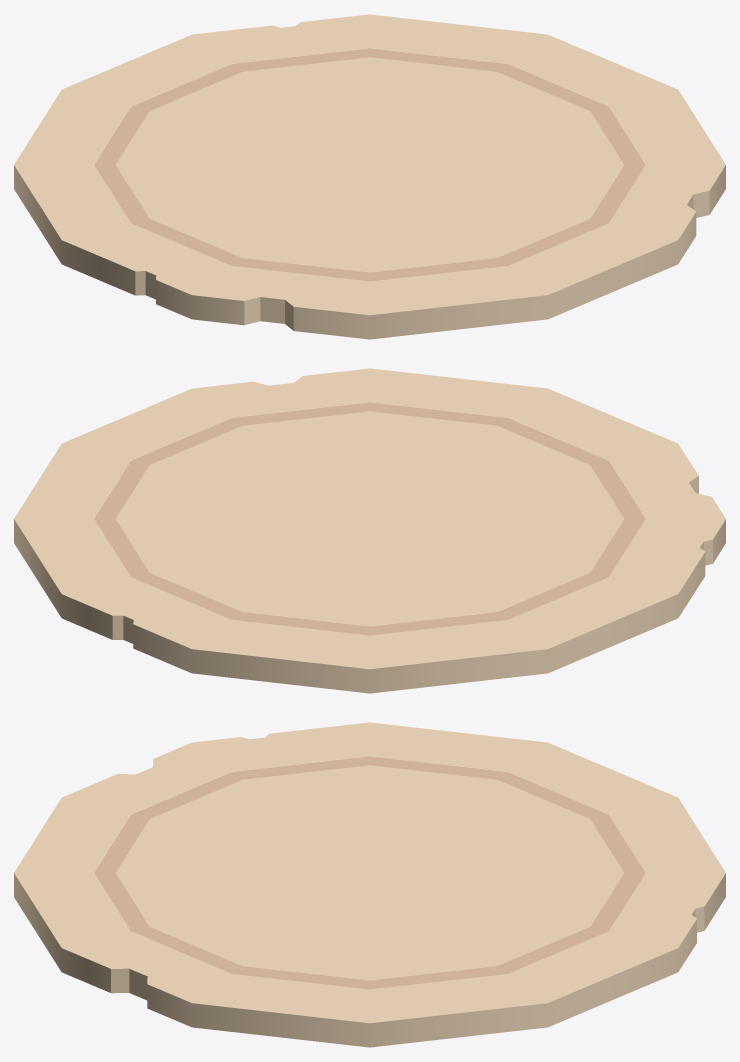
Rendered from platform.gltf.
3 renders of one model, top to bottom at view 1: azimuth 30°, elevation 25°; view 2: azimuth 150°, elevation 25°; view 3: azimuth 270°, elevation 25°, orthographic.
Visible parts, largest first — view 1: cuttingBoardRound; view 2: cuttingBoardRound; view 3: cuttingBoardRound.
Boxes of the visible parts, x1,y1,x2,y2 form: cuttingBoardRound: [14, 14, 725, 339]; cuttingBoardRound: [14, 368, 725, 693]; cuttingBoardRound: [14, 722, 725, 1047].
Size of the model in its own units: 0.8 by 0.0301 by 0.8.
